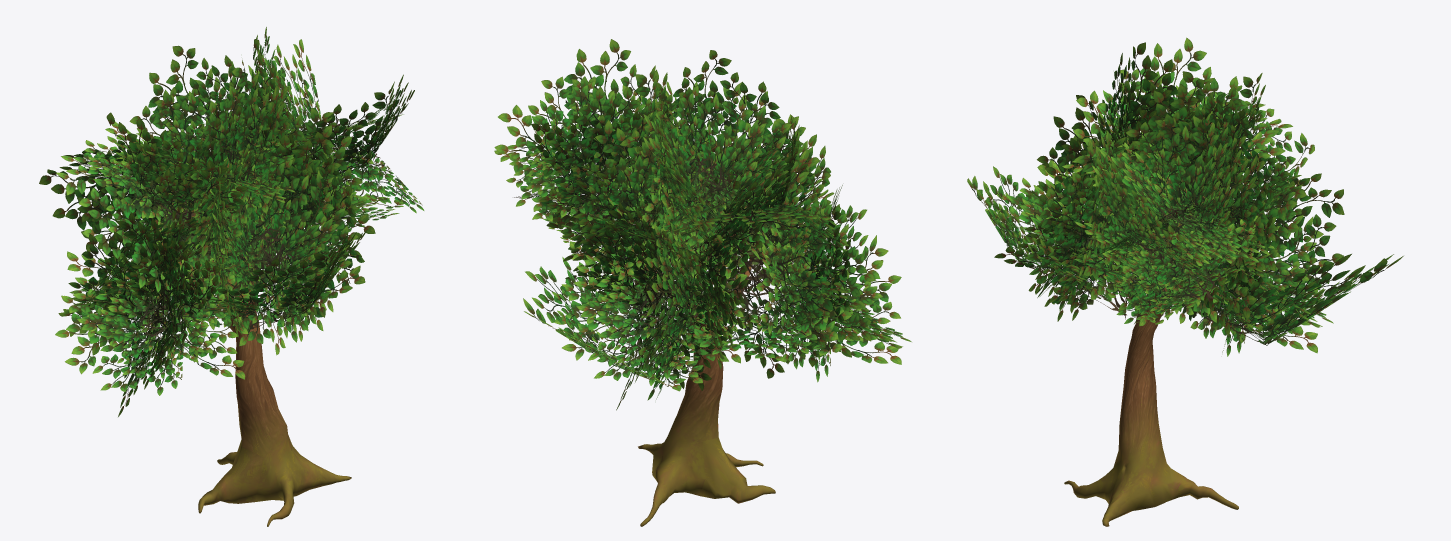
The model's file is Extra Trees.fbx.
The picture shows the model from 3 angles, left to right: view 1: azimuth 30°, elevation 25°; view 2: azimuth 150°, elevation 25°; view 3: azimuth 270°, elevation 25°; orthographic projection.
Parts seen in each view (by area): view 1: Leafs, TreeTrunk; view 2: Leafs, TreeTrunk; view 3: Leafs, TreeTrunk.
Part boxes in pixels (box(x1,y1,x2,y2)): Leafs: box(39, 27, 424, 416); TreeTrunk: box(198, 183, 351, 526); Leafs: box(494, 39, 911, 410); TreeTrunk: box(638, 201, 775, 526); Leafs: box(967, 37, 1403, 356); TreeTrunk: box(1064, 201, 1238, 526).
Size of the model in its own units: 4.42 by 4.86 by 4.45.
